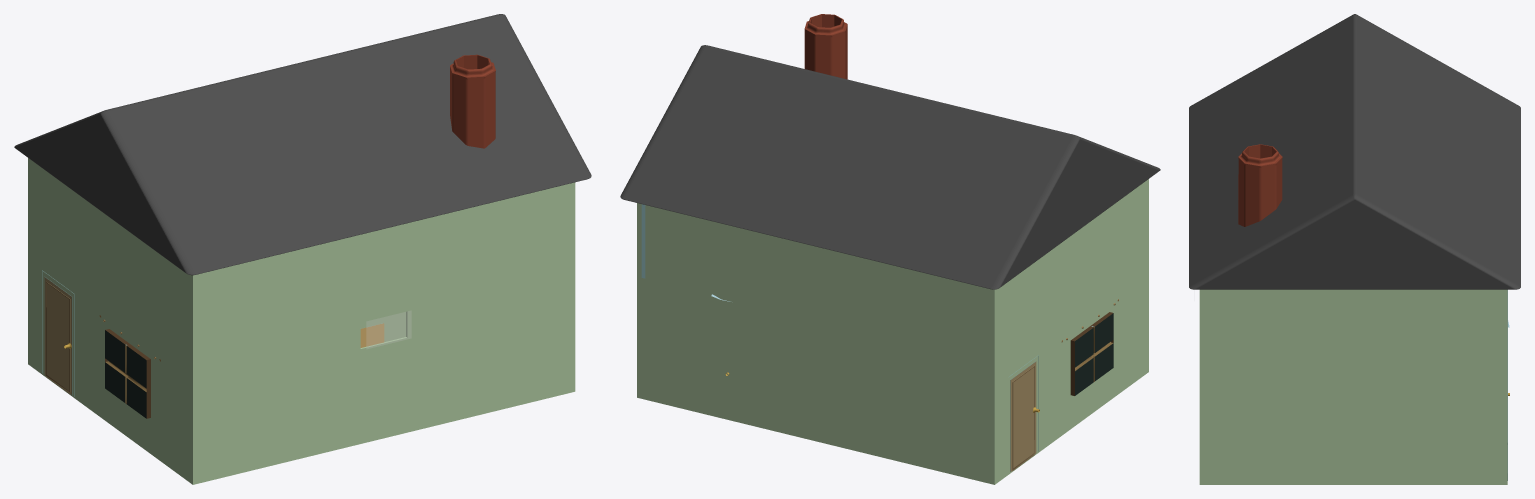
The model's file is house_complete.glb.
The picture shows the model from 3 angles, left to right: view 1: azimuth 30°, elevation 25°; view 2: azimuth 150°, elevation 25°; view 3: azimuth 270°, elevation 25°; orthographic projection. The views are drawn at different scales.
Visible parts, largest first — view 1: exterior_wall, exterior_roof, chimney, Doors_12, House_11, window_glass; view 2: exterior_wall, exterior_roof, House_11, Doors_12, chimney; view 3: exterior_roof, exterior_wall, chimney.
Boxes of the visible parts, x1=… form: exterior_wall: x1=28, y1=158, x2=575, y2=484; exterior_roof: x1=14, y1=14, x2=591, y2=275; chimney: x1=450, y1=54, x2=495, y2=148; Doors_12: x1=42, y1=270, x2=74, y2=396; House_11: x1=105, y1=329, x2=150, y2=418; window_glass: x1=366, y1=311, x2=411, y2=348; exterior_wall: x1=637, y1=179, x2=1148, y2=484; exterior_roof: x1=620, y1=45, x2=1160, y2=289; House_11: x1=641, y1=204, x2=1113, y2=395; Doors_12: x1=1009, y1=355, x2=1038, y2=471; chimney: x1=804, y1=14, x2=847, y2=79; exterior_roof: x1=1189, y1=14, x2=1520, y2=289; exterior_wall: x1=1199, y1=289, x2=1507, y2=484; chimney: x1=1238, y1=144, x2=1282, y2=226.
Bounding box in the file's own units: 294 × 231 × 223.
